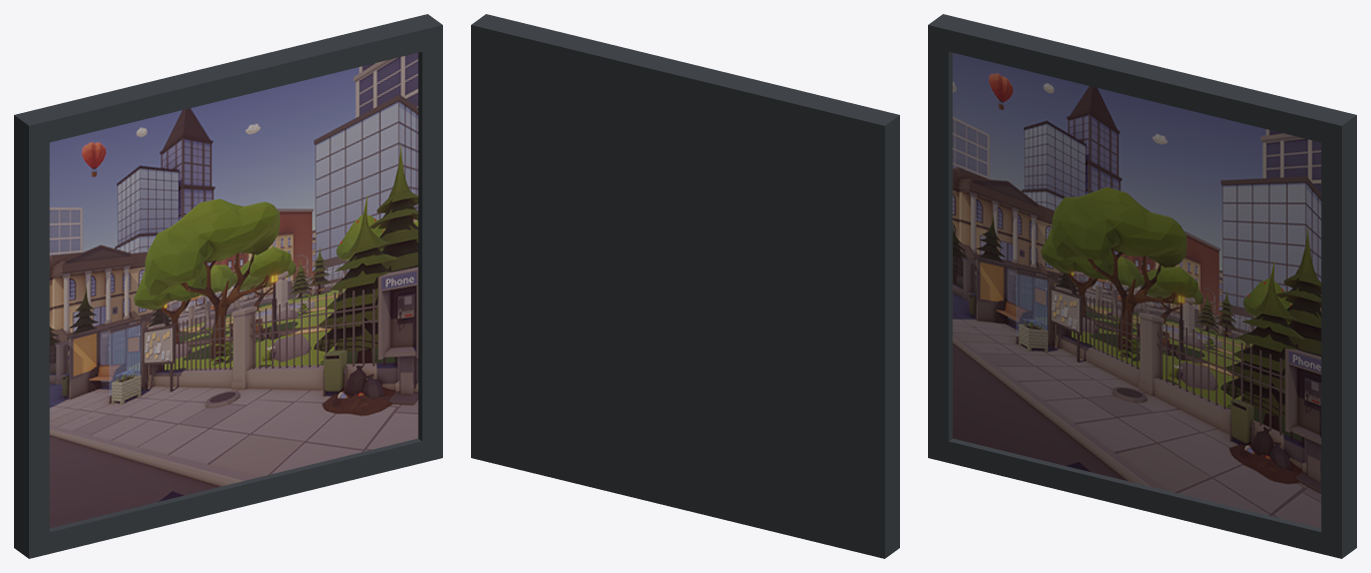
File: Painting_30.fbx
3 views of the same model, side by side, from view 1: azimuth 30°, elevation 25°; view 2: azimuth 150°, elevation 25°; view 3: azimuth 330°, elevation 25° (orthographic).
Visible parts, largest first — view 1: Painting_30; view 2: Painting_30; view 3: Painting_30.
Part boxes in pixels (box(x1,y1,x2,y2)): Painting_30: box(14, 14, 442, 558); Painting_30: box(471, 14, 899, 558); Painting_30: box(928, 14, 1356, 558).
Size of the model in its own units: 50 by 50 by 3.14.
